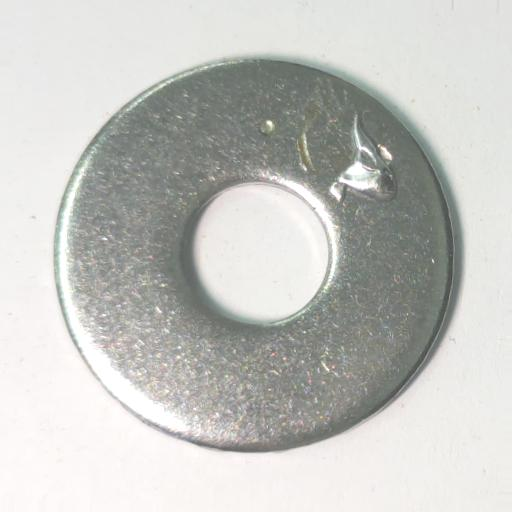circular_cavity: (259, 120, 275, 136)
excess_material: (328, 112, 398, 203)
